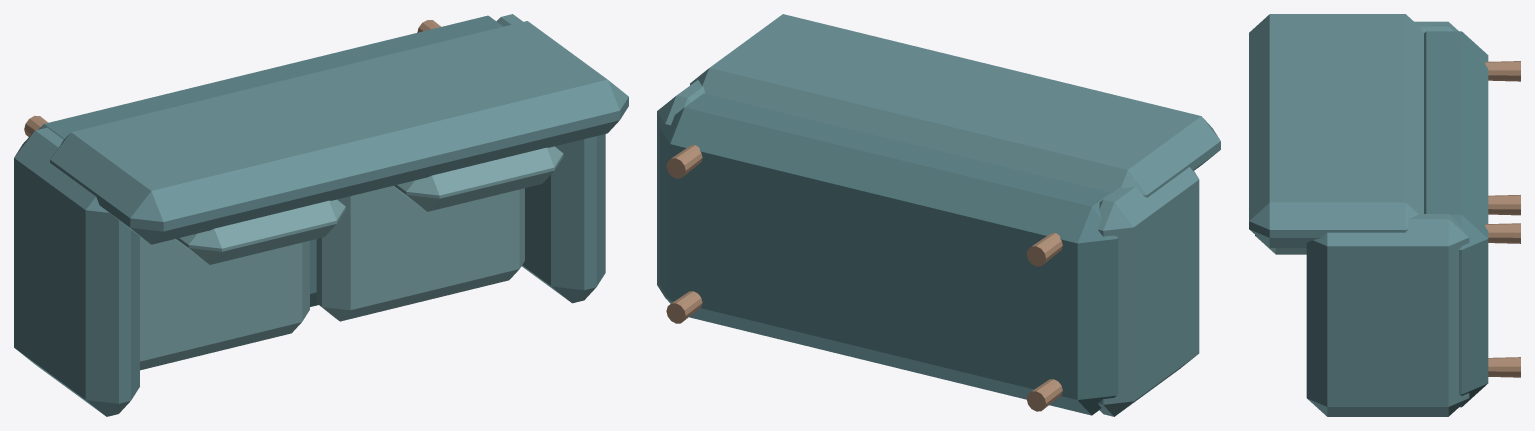
Rendered from prop-sofa.glb.
The picture shows the model from 3 angles, left to right: view 1: azimuth 30°, elevation 25°; view 2: azimuth 150°, elevation 25°; view 3: azimuth 270°, elevation 25°; orthographic projection. The views are drawn at different scales.
Parts seen in each view (by area): view 1: 0005__sofa_back, 0006__sofa_arm, 0010__seat_cushion, 0008__seat_cushion, 0007__sofa_arm, 0004__sofa_base, 0009__sofa_pillow, 0011__sofa_pillow; view 2: 0004__sofa_base, 0005__sofa_back, 0006__sofa_arm, 0007__sofa_arm, 0001__sofa_foot, 0003__sofa_foot, 0000__sofa_foot, 0002__sofa_foot; view 3: 0005__sofa_back, 0007__sofa_arm, 0004__sofa_base, 0001__sofa_foot, 0003__sofa_foot, 0002__sofa_foot, 0000__sofa_foot, 0006__sofa_arm, 0011__sofa_pillow.
Part boxes in pixels (x1,y1,x2,y2): 0005__sofa_back: (50, 21, 628, 244); 0006__sofa_arm: (14, 127, 139, 416); 0010__seat_cushion: (316, 186, 524, 321); 0008__seat_cushion: (140, 236, 309, 370); 0007__sofa_arm: (496, 14, 605, 303); 0004__sofa_base: (39, 15, 502, 306); 0009__sofa_pillow: (174, 199, 345, 264); 0011__sofa_pillow: (392, 146, 563, 211); 0004__sofa_base: (659, 93, 1118, 415); 0005__sofa_back: (690, 14, 1220, 197); 0006__sofa_arm: (1097, 167, 1199, 416); 0007__sofa_arm: (657, 80, 705, 303); 0001__sofa_foot: (1026, 233, 1062, 266); 0003__sofa_foot: (666, 145, 702, 178); 0000__sofa_foot: (1026, 379, 1062, 411); 0002__sofa_foot: (666, 291, 702, 323); 0005__sofa_back: (1249, 14, 1423, 247); 0007__sofa_arm: (1306, 214, 1469, 416); 0004__sofa_base: (1424, 31, 1488, 407); 0001__sofa_foot: (1485, 61, 1520, 81); 0003__sofa_foot: (1485, 223, 1520, 243); 0002__sofa_foot: (1488, 357, 1520, 377); 0000__sofa_foot: (1488, 195, 1520, 215); 0006__sofa_arm: (1414, 21, 1458, 32); 0011__sofa_pillow: (1255, 235, 1306, 254).
Size of the model in its own units: 1.72 by 0.785 by 0.92.
